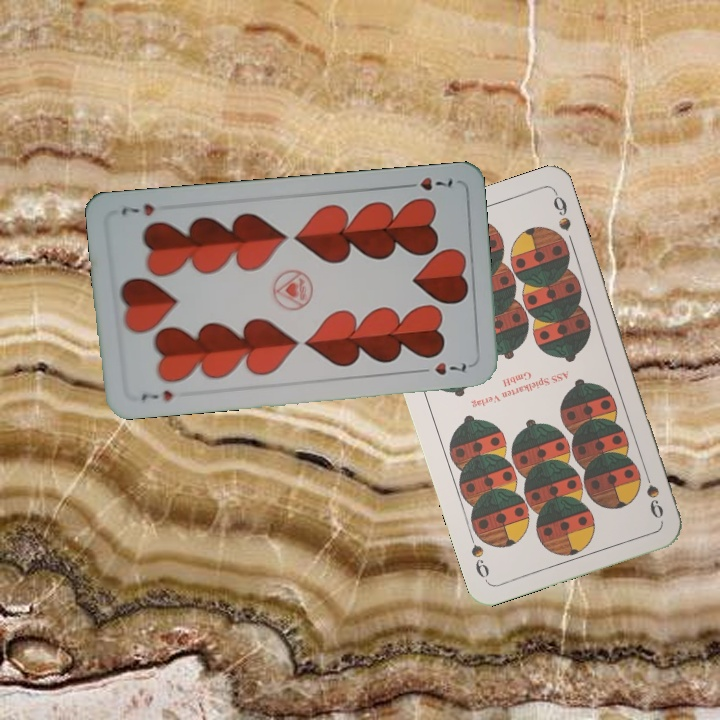H7: (399, 173, 455, 193), (137, 385, 176, 404)
S9: (639, 465, 666, 522)
